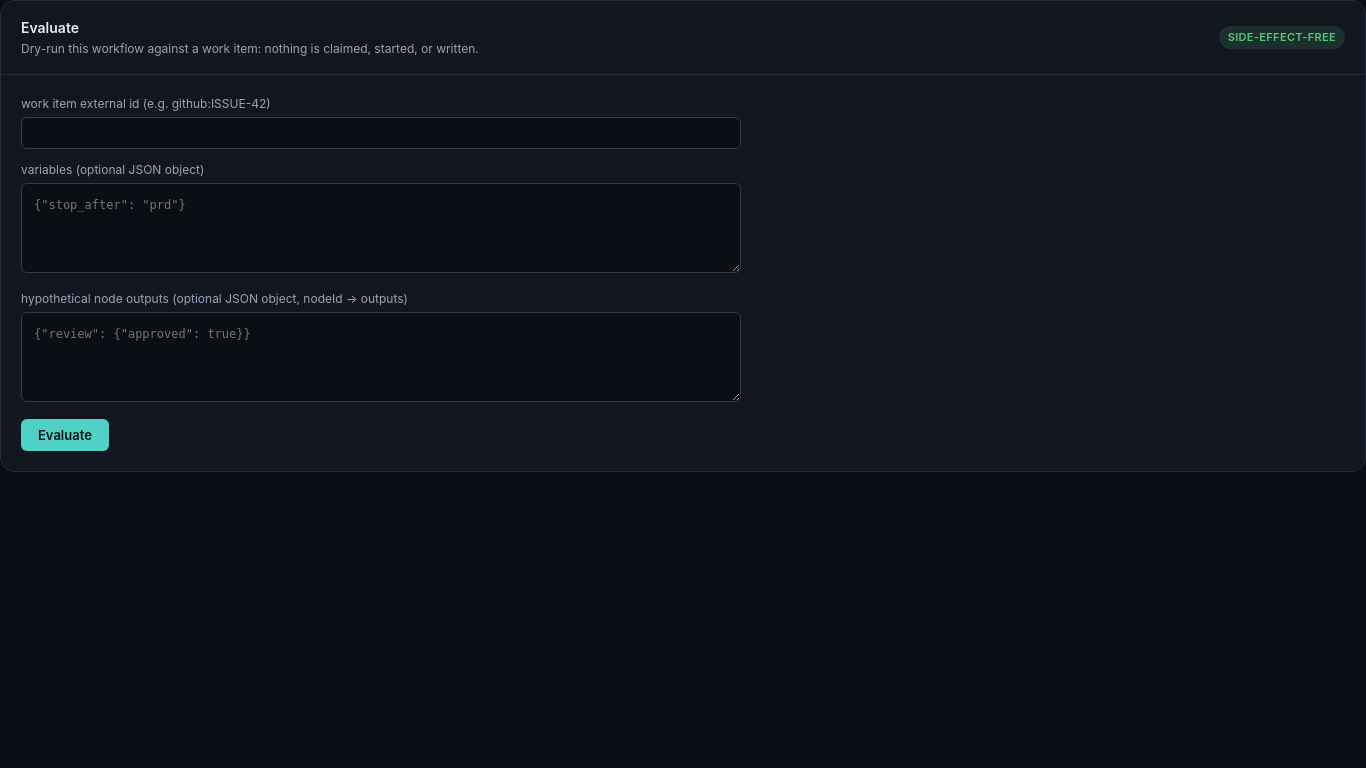
Test: EvaluatePanel › renders the mocked report: path chips, blockers, and labels
The width and height of the screenshot is (1366, 768).
Expected: the text "Side-effect-free" is shown, left=1219, top=26, right=1345, bottom=49
Type "fake:ISSUE-9" into the field named "work item external id" at coordinates (381, 133), box left=21, top=117, right=741, bottom=149
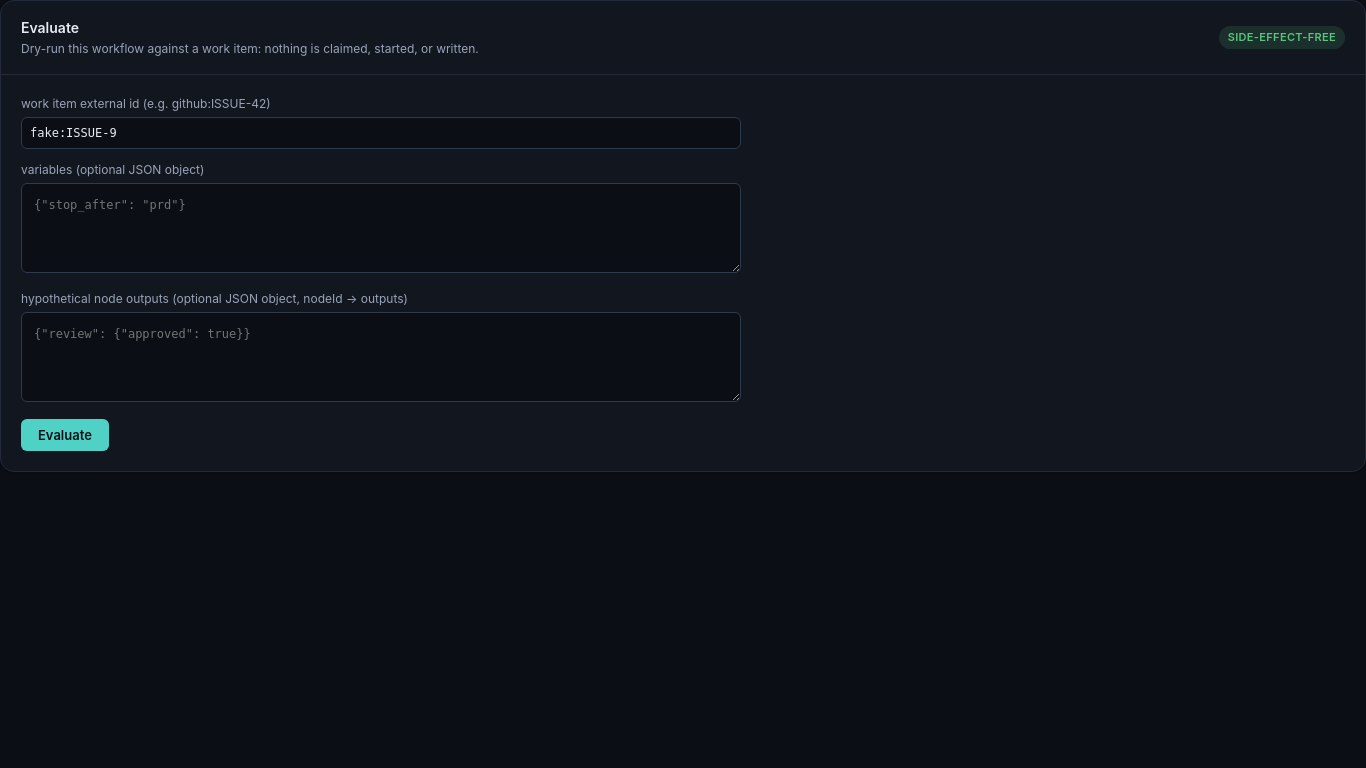
Click the button "Evaluate" at coordinates (65, 435), box left=21, top=419, right=109, bottom=451
(page scrolled)
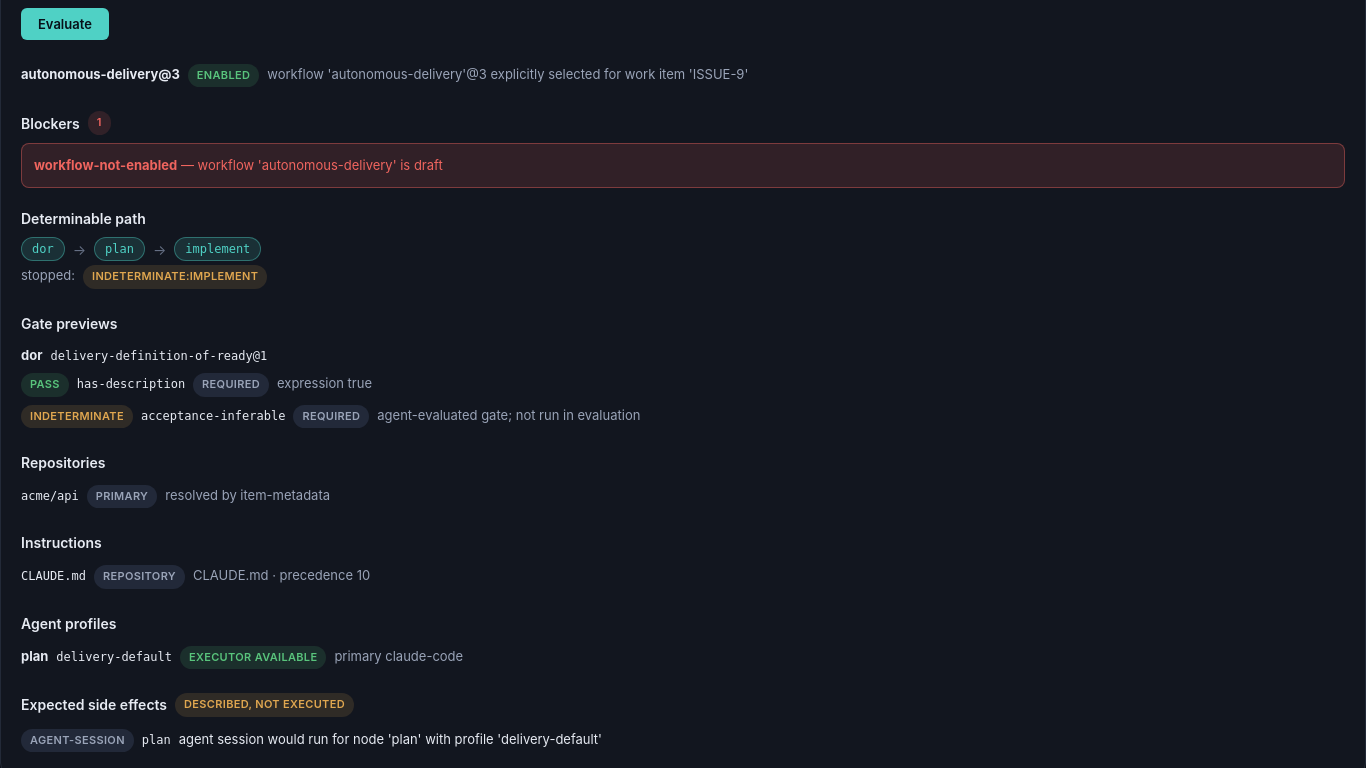
Expected: the text "dor" below "Determinable path" is shown, left=32, top=242, right=54, bottom=256
Expected: the text "plan" below "Determinable path" is shown, left=105, top=242, right=134, bottom=256
Expected: the text "implement" is shown, left=174, top=237, right=261, bottom=261
